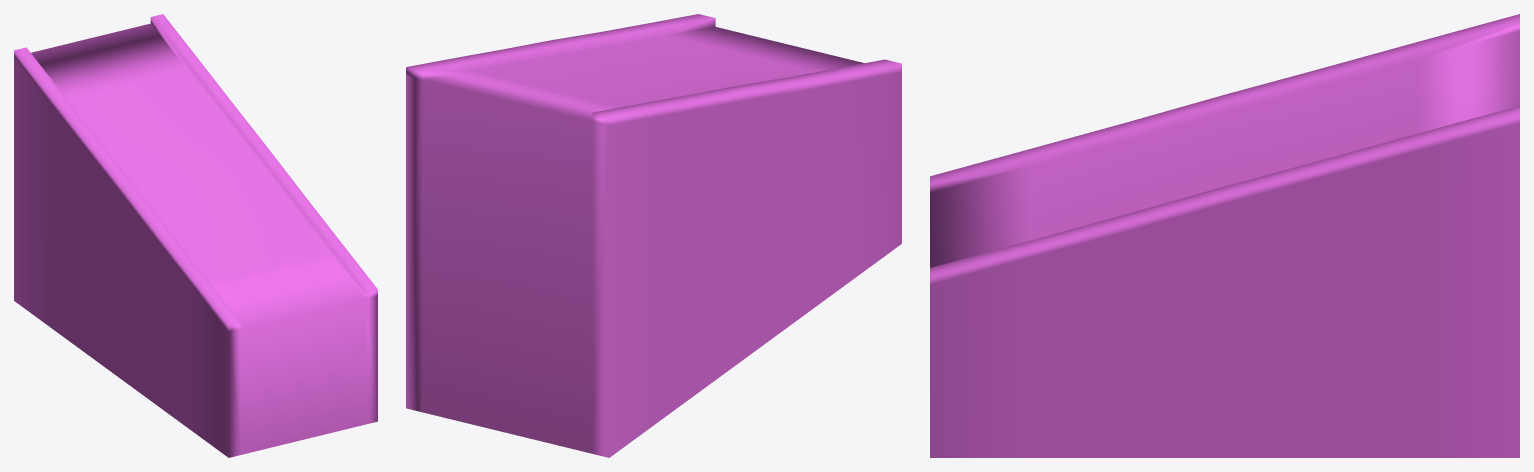
Rendered from RD_Hump_Tall1_Half2.fbx.
The picture shows the model from 3 angles, left to right: view 1: azimuth 30°, elevation 25°; view 2: azimuth 150°, elevation 25°; view 3: azimuth 270°, elevation 25°; orthographic projection. The views are drawn at different scales.
Parts seen in each view (by area): view 1: Mesh; view 2: Mesh; view 3: Mesh.
Boxes of the visible parts, x1,y1,x2,y2 form: Mesh: [14, 14, 377, 457]; Mesh: [406, 14, 901, 457]; Mesh: [930, 14, 1519, 457].
Size of the model in its own units: 480 by 770 by 1197.
